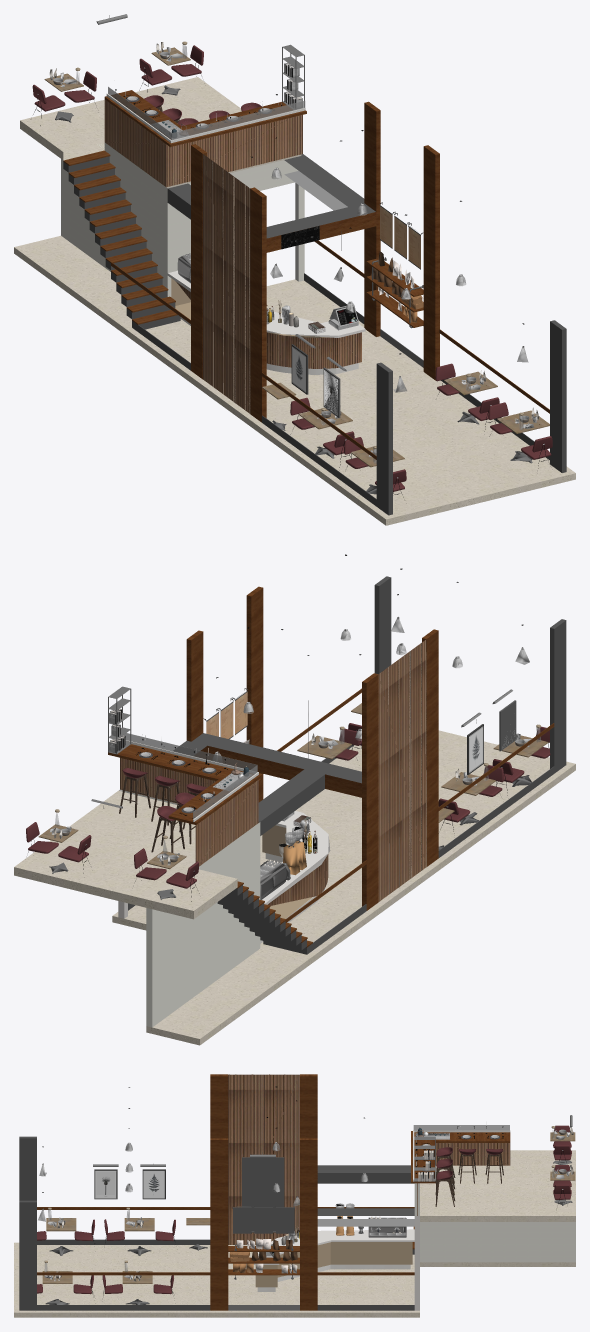
Rendered from hero-tablet.glb.
3 renders of one model, top to bottom at view 1: azimuth 30°, elevation 25°; view 2: azimuth 150°, elevation 25°; view 3: azimuth 270°, elevation 25°, orthographic. The views are drawn at different scales.
Parts seen in each view (by area): view 1: Try 7; view 2: Try 7; view 3: Try 7.
Part boxes in pixels (x1,y1,x2,y2): Try 7: (14, 14, 575, 525); Try 7: (14, 554, 575, 1045); Try 7: (14, 1074, 575, 1317).
Bounding box in the file's own units: 166 × 194 × 565.
Materials: 99 (44 with a texture image).
